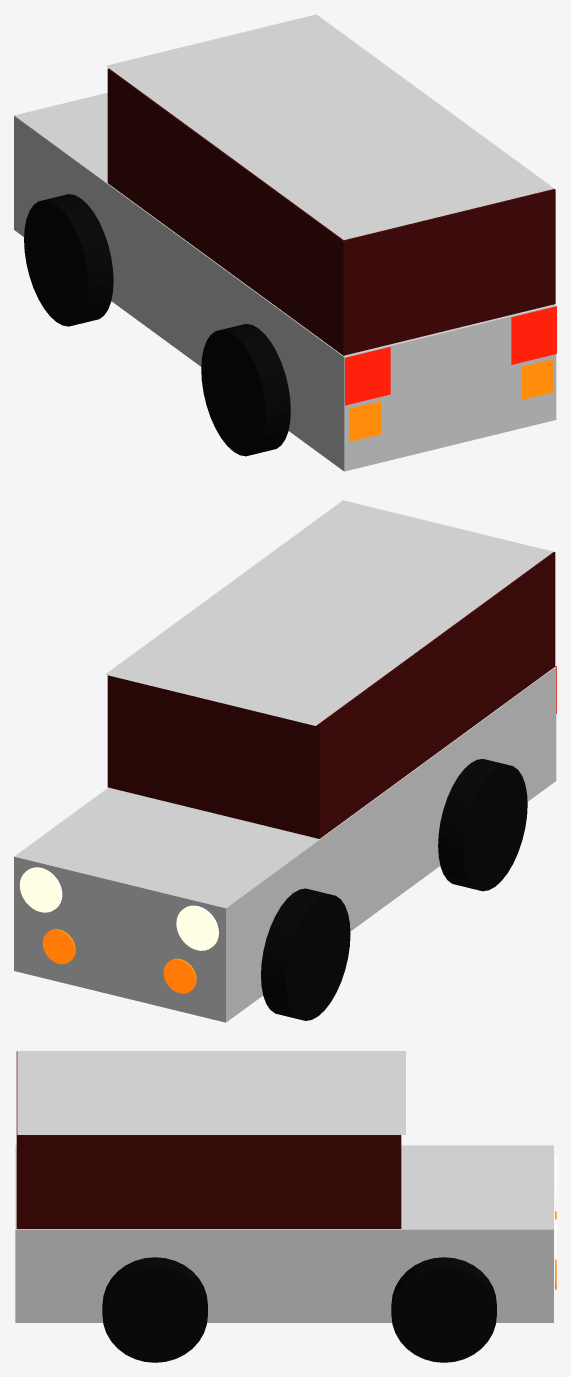
The model's file is new car 3.fbx.
The picture shows the model from 3 angles, top to bottom: view 1: azimuth 30°, elevation 25°; view 2: azimuth 150°, elevation 25°; view 3: azimuth 270°, elevation 25°; orthographic projection. The views are drawn at different scales.
Visible parts, largest first — view 1: Cube.015, Cube.014, Plane.047, Circle.075, Circle.077, Plane.043, Plane.044, Plane.045, Plane.046; view 2: Cube.014, Cube.015, Plane.047, Circle.077, Circle.075, Circle.078, Circle.070, Circle.072, Circle.071; view 3: Cube.014, Cube.015, Plane.047, Circle.074, Circle.076.
Part boxes in pixels (x1,y1,x2,y2): Cube.015: [107, 68, 555, 355]; Cube.014: [14, 92, 556, 471]; Plane.047: [106, 14, 554, 239]; Circle.075: [24, 194, 113, 326]; Circle.077: [201, 324, 290, 456]; Plane.043: [345, 347, 390, 405]; Plane.044: [511, 306, 556, 364]; Plane.045: [521, 359, 553, 399]; Plane.046: [349, 401, 380, 441]; Cube.014: [14, 666, 556, 1022]; Cube.015: [107, 552, 555, 838]; Plane.047: [105, 500, 553, 725]; Circle.077: [438, 759, 527, 891]; Circle.075: [261, 888, 350, 1020]; Circle.078: [176, 905, 218, 950]; Circle.070: [19, 867, 62, 912]; Circle.072: [42, 929, 75, 964]; Circle.071: [163, 958, 196, 993]; Cube.014: [15, 1145, 553, 1322]; Cube.015: [16, 1051, 401, 1228]; Plane.047: [17, 1051, 405, 1134]; Circle.074: [391, 1257, 496, 1362]; Circle.076: [102, 1257, 207, 1362].
Bounding box in the file's own units: 247 × 241 × 544.
